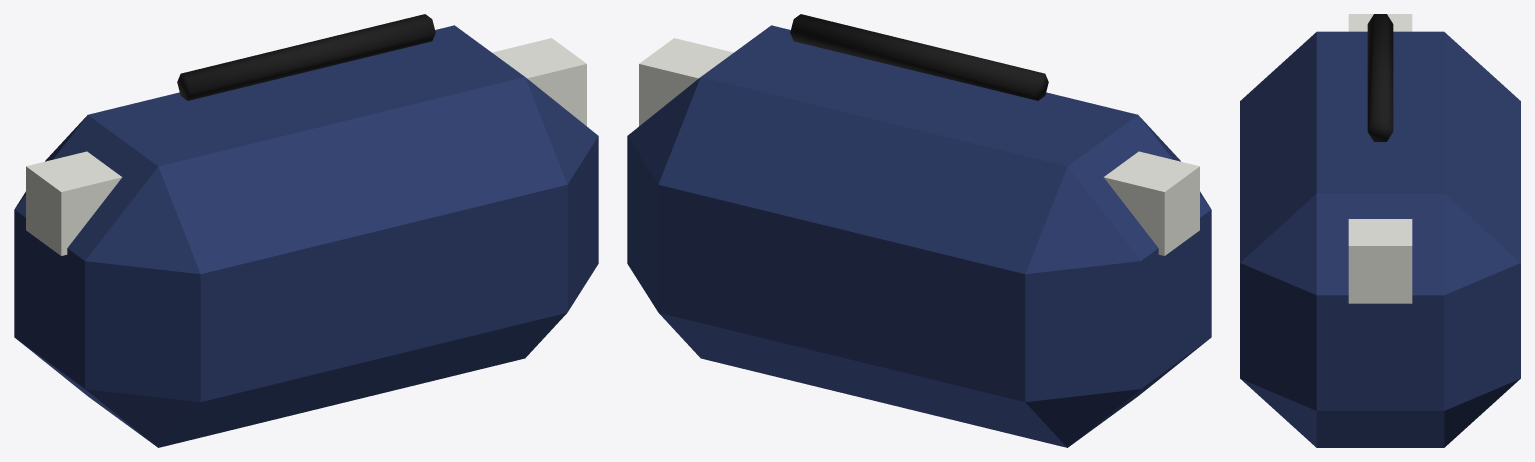
Rendered from sportbag.glb.
3 renders of one model, left to right at view 1: azimuth 30°, elevation 25°; view 2: azimuth 150°, elevation 25°; view 3: azimuth 270°, elevation 25°, orthographic. The views are drawn at different scales.
Visible parts, largest first — view 1: Item; view 2: Item; view 3: Item.
Part boxes in pixels (x1,y1,x2,y2): Item: (14,14,598,447); Item: (627,14,1211,447); Item: (1240,14,1520,447).
Bounding box in the file's own units: 0.43 × 0.2587 × 0.22.
